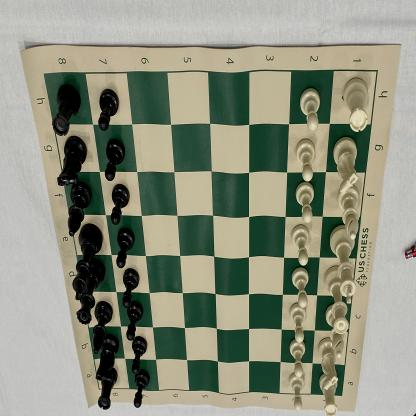black-bishop: (68, 184, 91, 238), (92, 302, 113, 354)
black-king: (74, 224, 104, 302)
black-knight: (58, 136, 87, 186), (95, 336, 119, 382)
black-pawn: (98, 89, 119, 131), (105, 140, 125, 182), (116, 227, 135, 268), (112, 184, 130, 224), (122, 268, 140, 307), (127, 301, 144, 342), (130, 337, 148, 373), (133, 370, 149, 409)
black-queen: (76, 261, 105, 326)
black-rook: (53, 84, 81, 136), (98, 368, 117, 410)
white-bishop: (337, 186, 360, 240), (326, 304, 346, 358)
white-king: (329, 225, 356, 304)
white-knight: (333, 136, 360, 195), (318, 337, 338, 390)
white-pawn: (300, 87, 322, 130), (295, 181, 317, 223), (296, 138, 316, 182), (290, 268, 310, 308), (291, 225, 310, 266), (290, 302, 307, 343), (288, 372, 304, 413), (289, 340, 306, 377)
white-queen: (324, 266, 349, 335)
white-rook: (343, 78, 369, 133), (319, 373, 338, 416)
